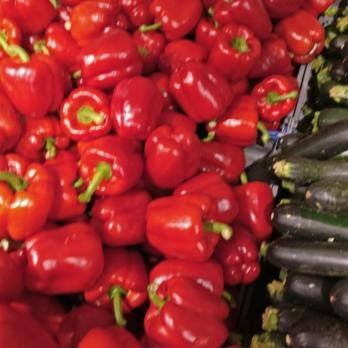Capsicum: (3, 1, 233, 348), (226, 0, 322, 125), (216, 177, 273, 286)
